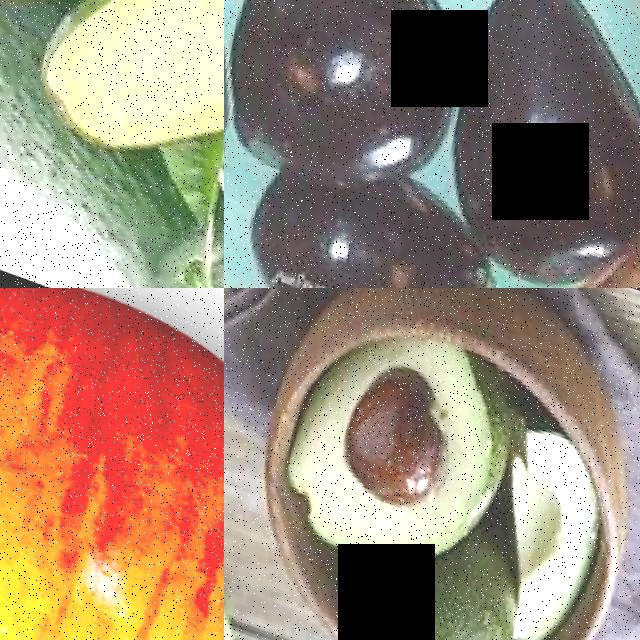apple: (0, 288, 224, 640)
avocado: (253, 288, 537, 591), (407, 0, 640, 288), (0, 0, 224, 288), (0, 0, 224, 279), (230, 0, 479, 218), (224, 115, 503, 288), (457, 375, 636, 640), (283, 514, 526, 640), (0, 0, 224, 82), (224, 482, 271, 640)
